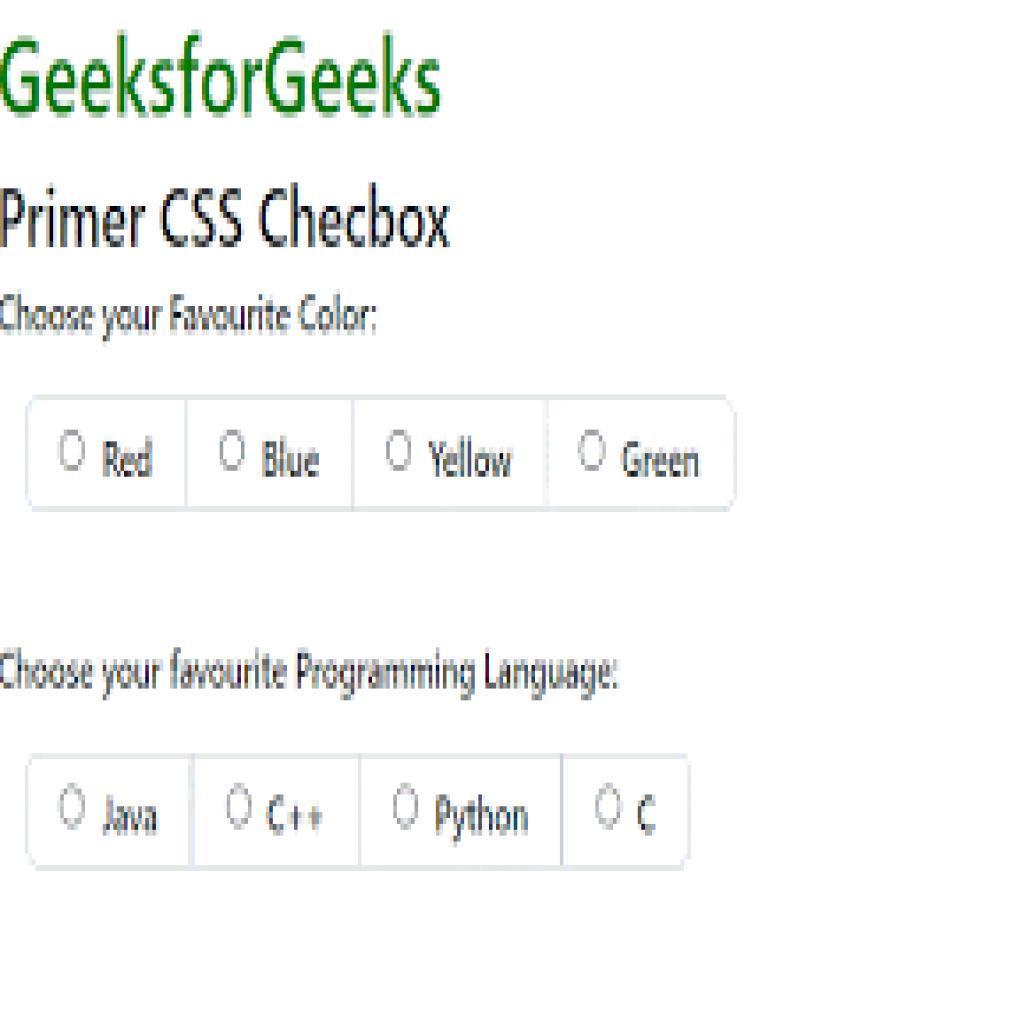label: (432, 789, 531, 850), (426, 434, 516, 485), (619, 434, 705, 485), (260, 432, 322, 485), (99, 792, 163, 843), (266, 791, 330, 842), (98, 432, 157, 483), (639, 792, 661, 842)
radio: (55, 781, 91, 834), (223, 781, 256, 837), (391, 782, 424, 834), (56, 425, 87, 479), (594, 781, 626, 833), (578, 427, 611, 477), (386, 428, 415, 478), (219, 428, 246, 473)
